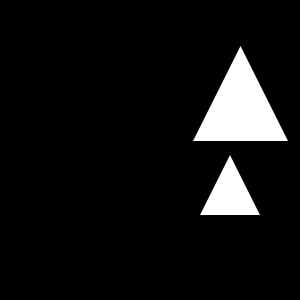triangle: (193, 46, 288, 141), (200, 155, 260, 215)
